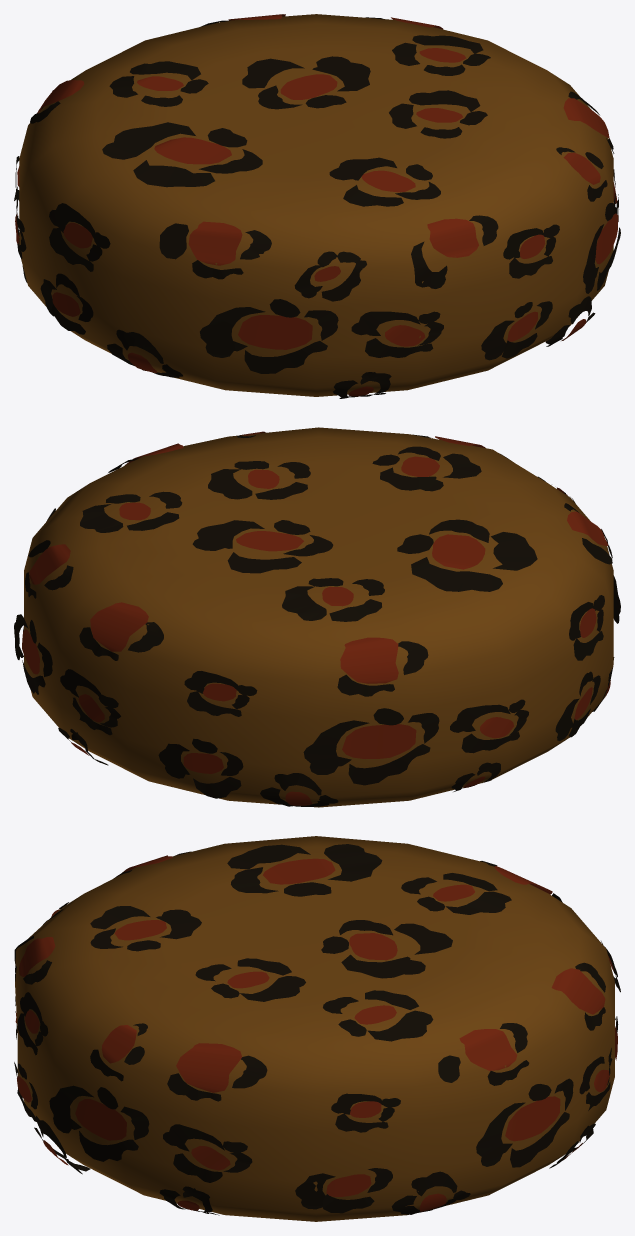
The model's file is PillboxHat.fbx.
3 views of the same model, one above another, from view 1: azimuth 30°, elevation 25°; view 2: azimuth 150°, elevation 25°; view 3: azimuth 270°, elevation 25° (orthographic).
Visible parts, largest first — view 1: PillboxHat; view 2: PillboxHat; view 3: PillboxHat.
Part boxes in pixels (x1,y1,x2,y2): PillboxHat: (14,14,620,398); PillboxHat: (14,427,620,807); PillboxHat: (14,836,620,1221).
Bounding box in the file's own units: 82.5 × 26.33 × 82.12.
